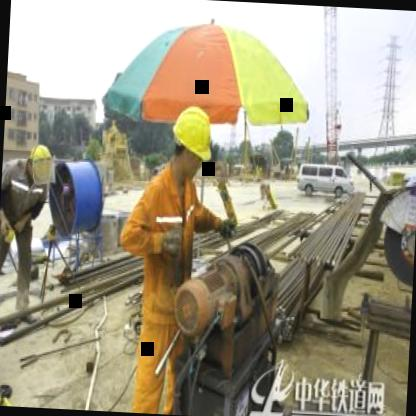helmet: (166, 97, 216, 184), (24, 141, 60, 191)
